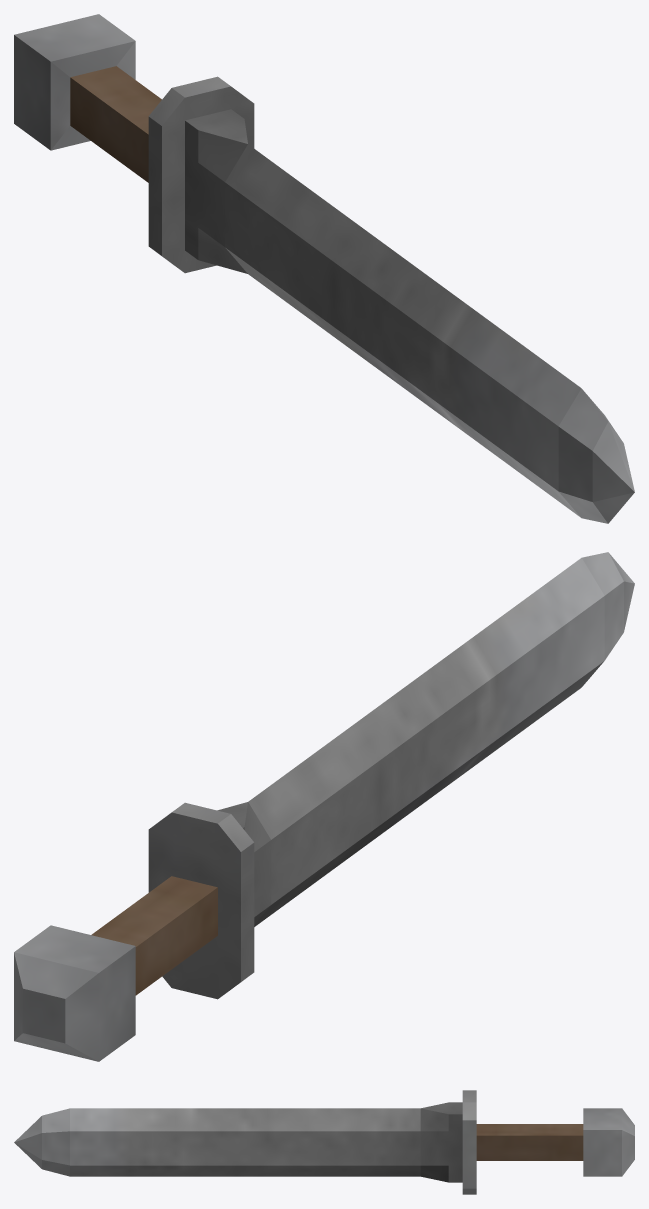
Rendered from short_sword.fbx.
3 views of the same model, one above another, from view 1: azimuth 30°, elevation 25°; view 2: azimuth 150°, elevation 25°; view 3: azimuth 270°, elevation 25° (orthographic). The views are drawn at different scales.
Parts seen in each view (by area): view 1: Cube; view 2: Cube; view 3: Cube.
Part boxes in pixels (x1,y1,x2,y2): Cube: [14, 14, 634, 523]; Cube: [14, 552, 634, 1061]; Cube: [14, 1090, 634, 1194].
Size of the model in its own units: 10 by 18.16 by 111.
